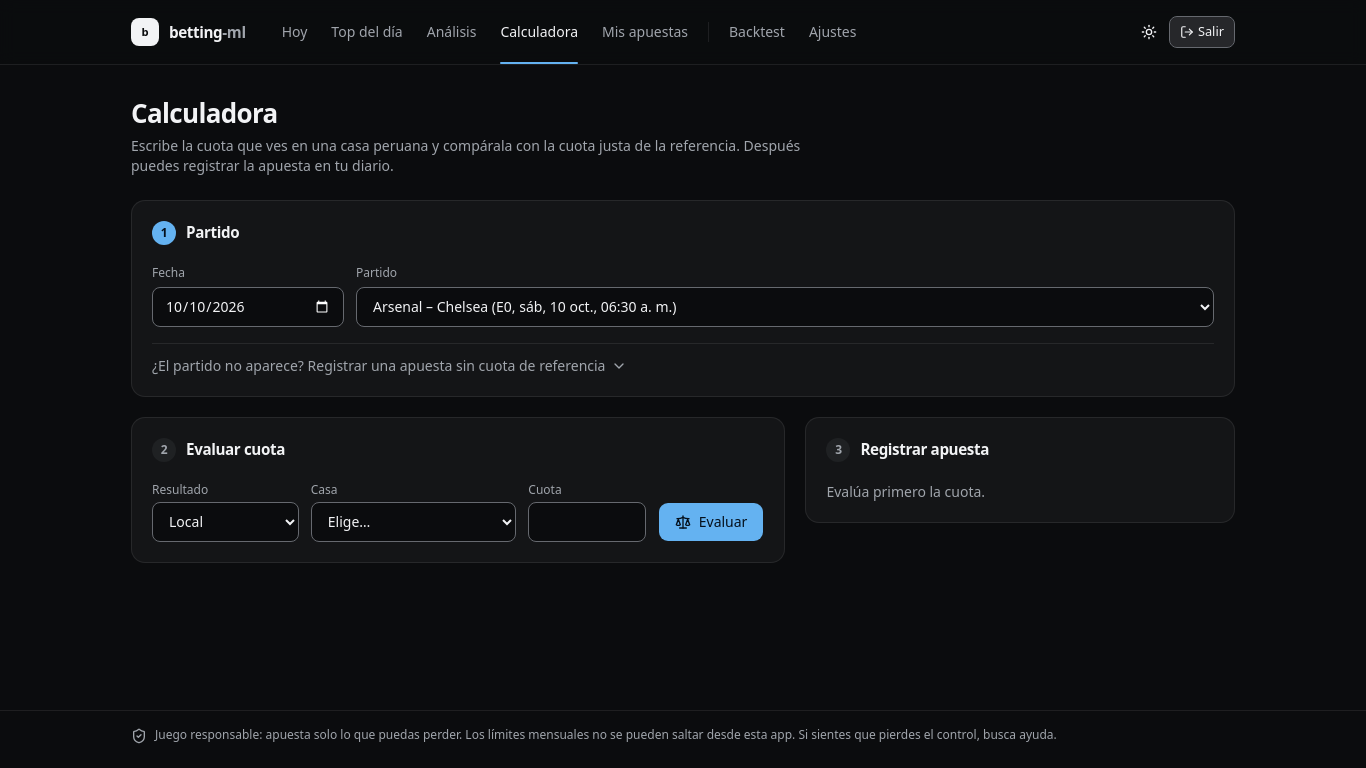
Test: evaluate and register a real bet with the suggested stake
Select "Visita" in the dropdown labelled "Resultado" at (225, 522), box [152,502,299,542]
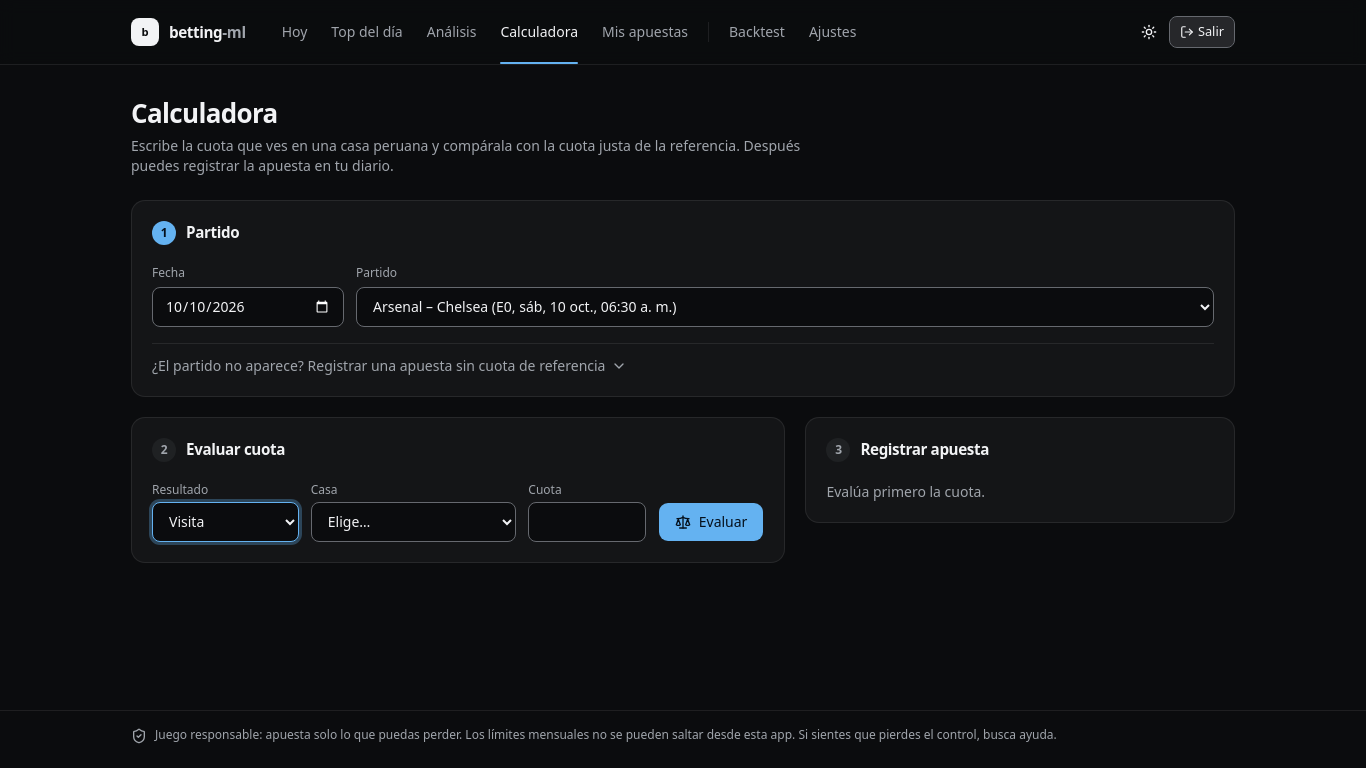
Select "Te Apuesto" in the dropdown labelled "Casa" at (414, 522), box [311,502,516,542]
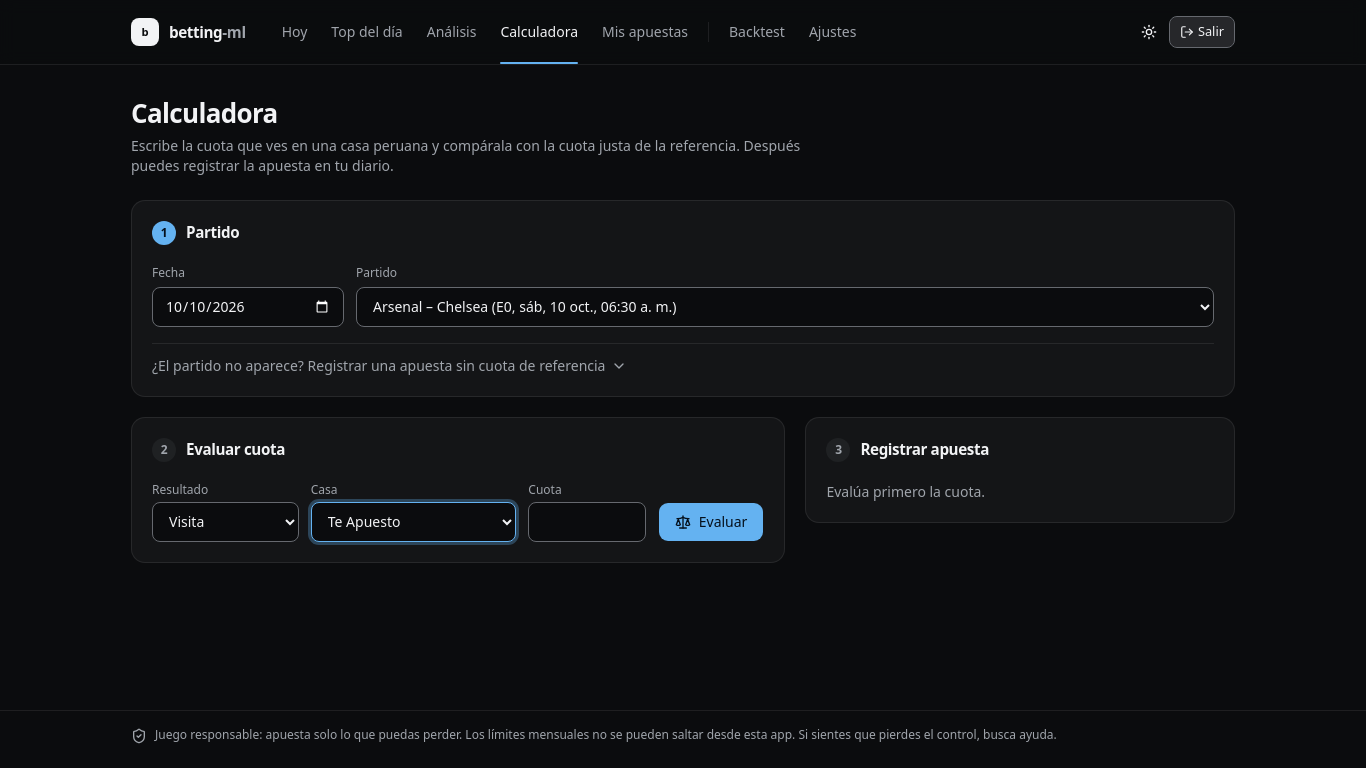
Type "4.4" into the field labelled "Cuota" at (587, 522), box [528,502,646,542]
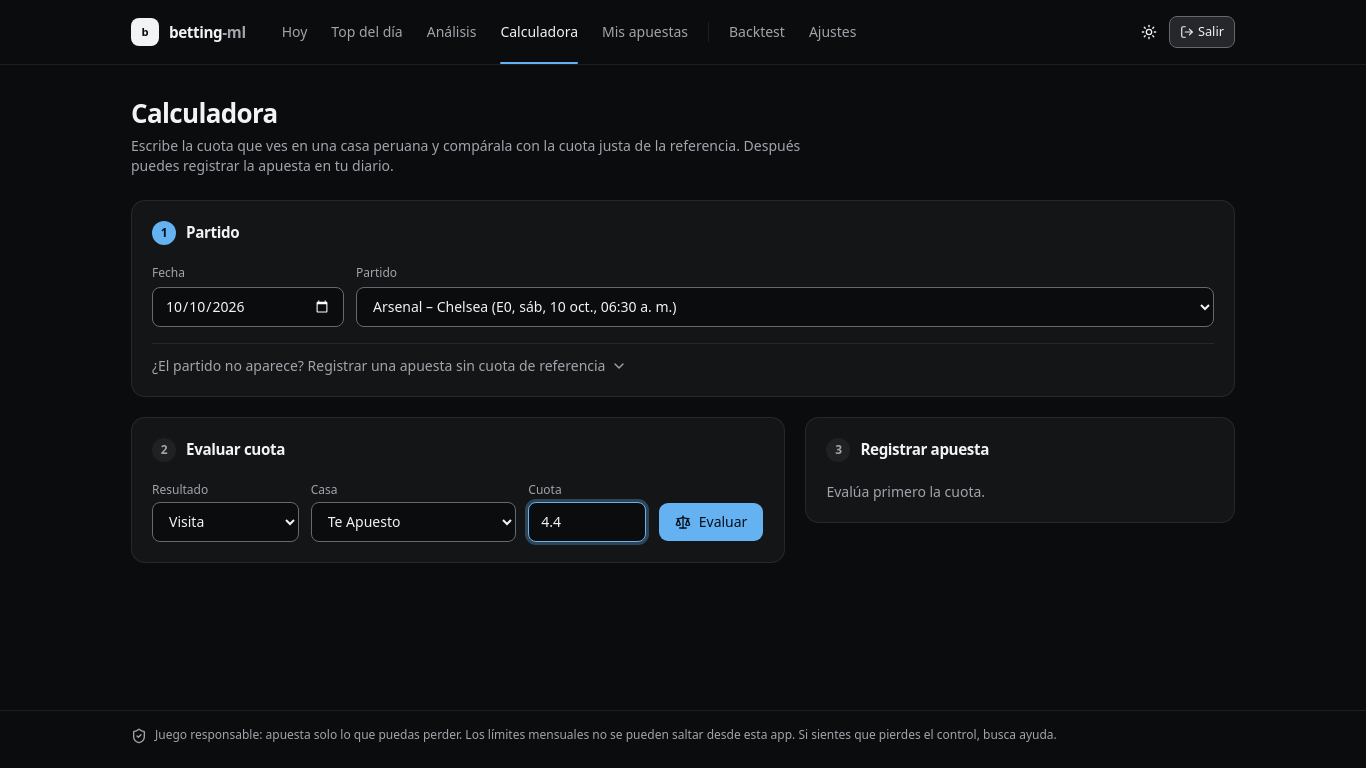
Click the button "Evaluar" at (711, 522), box [658,502,764,542]
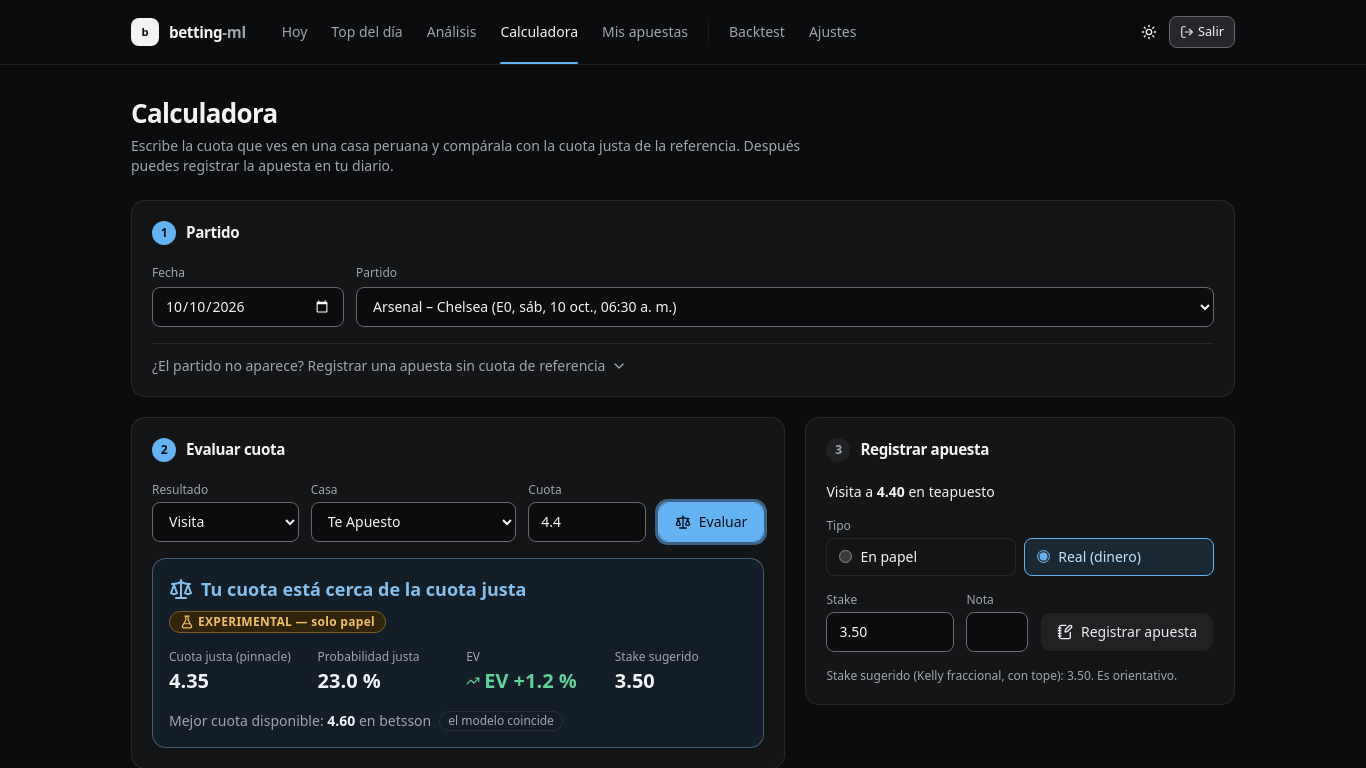
Check: the field labelled "Stake" holds "3.50", box [826,612,954,652]
Check: the radio button labelled "Real (dinero)" is checked, box [1037,550,1050,563]
Click the button "Registrar apuesta" at (1127, 632), box [1040,612,1214,652]
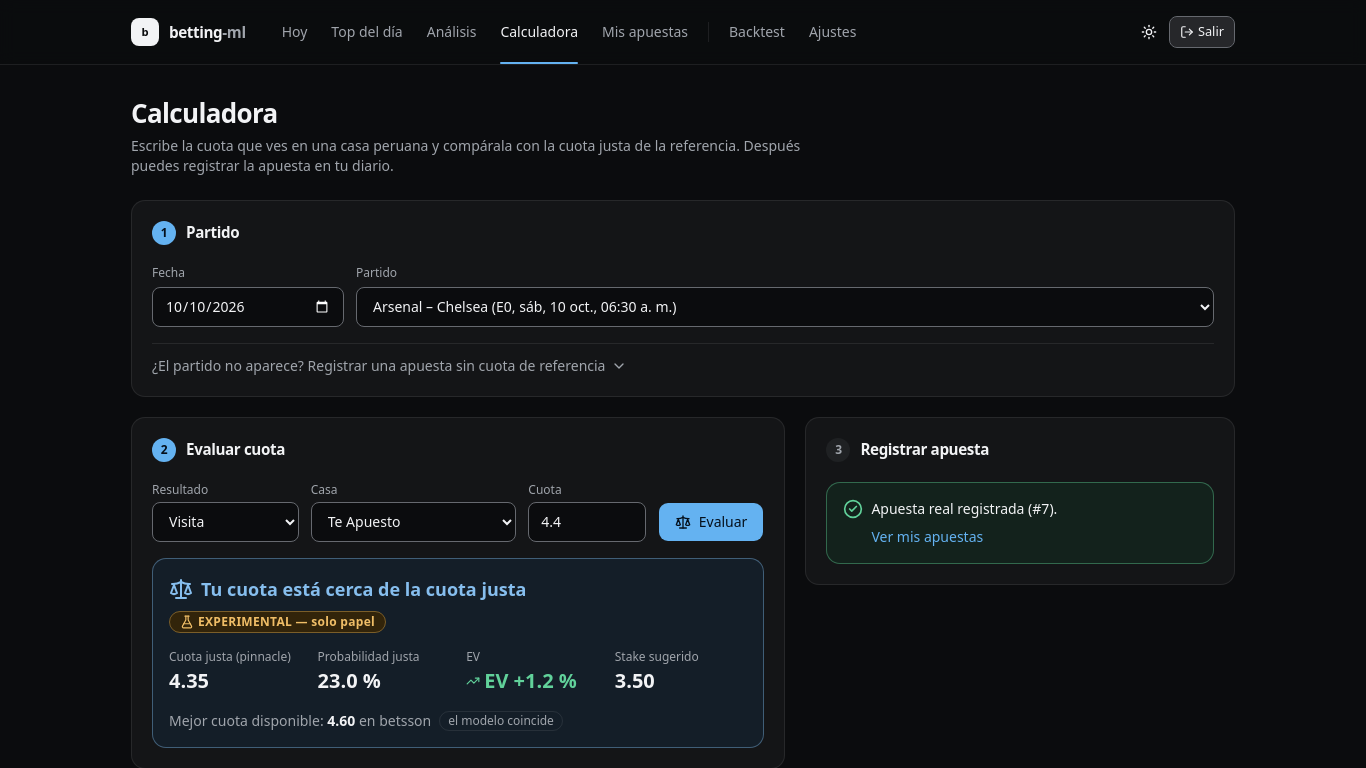
Check: the text "Apuesta real registrada (#7)." is shown, box [843,498,1057,518]
